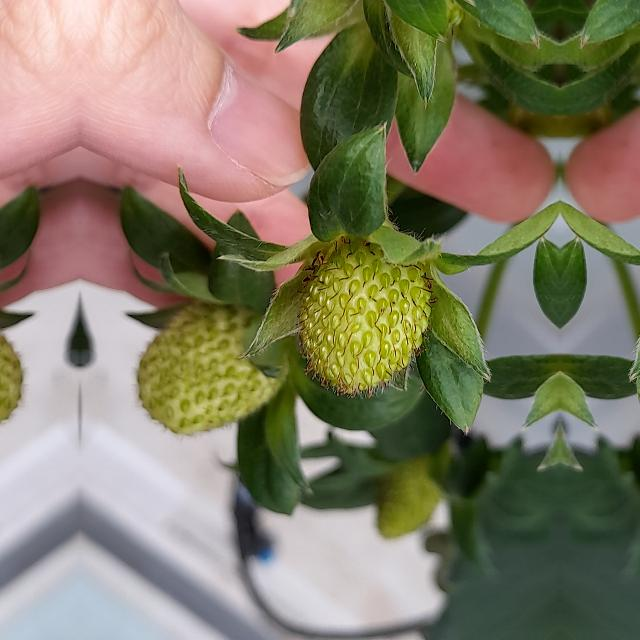Health_25: (132, 289, 290, 441), (294, 236, 438, 400)
